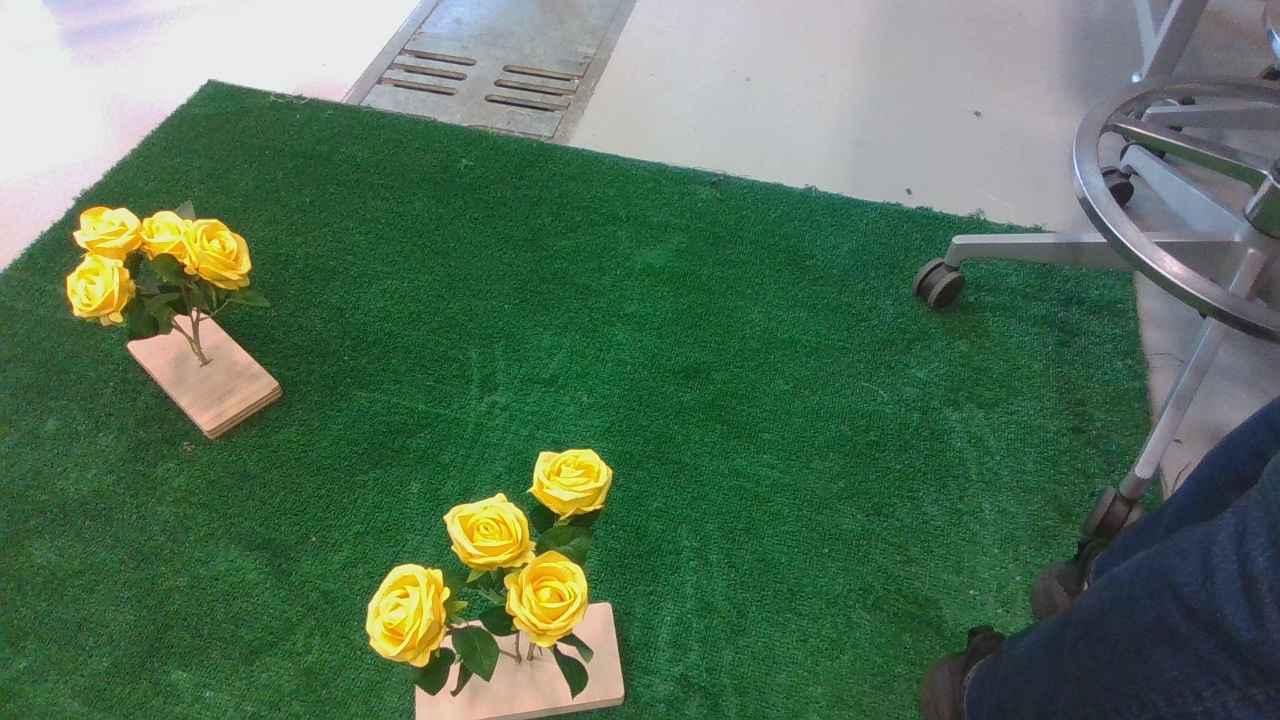rose: (360, 449, 637, 703), (62, 201, 299, 370)
